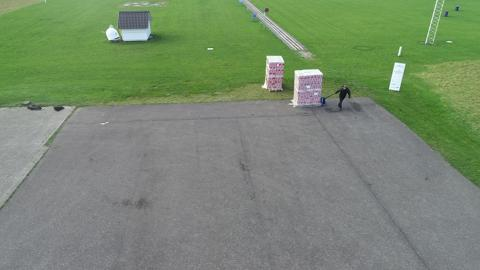RockwoolPallet: (266, 56, 283, 93)
